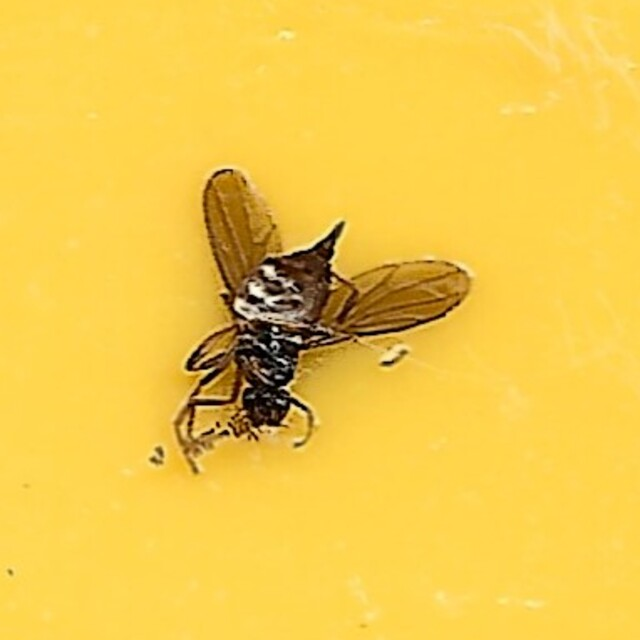Brachycera: (168, 163, 472, 477)
